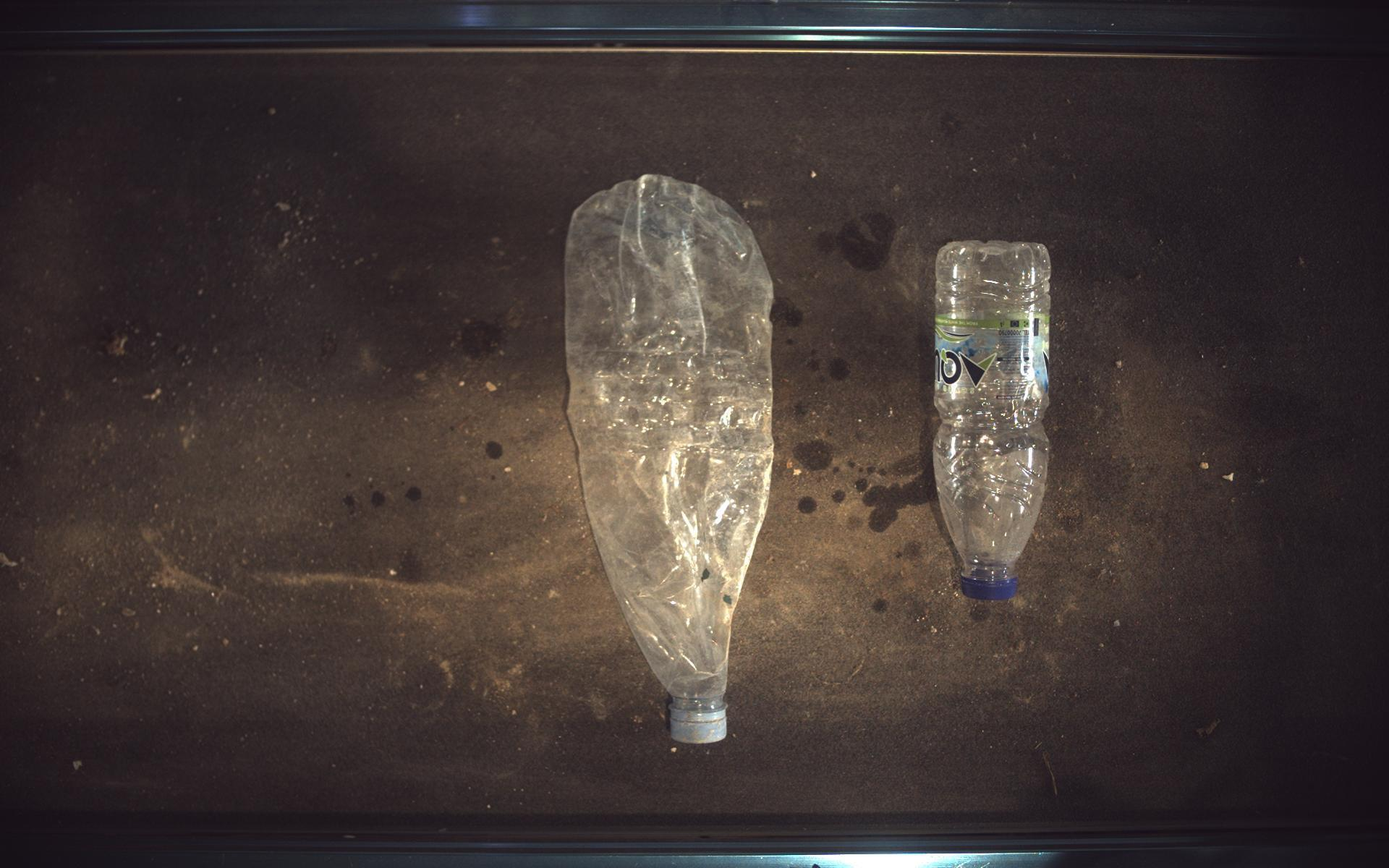general_w: (566, 174, 775, 745), (935, 239, 1053, 600)
